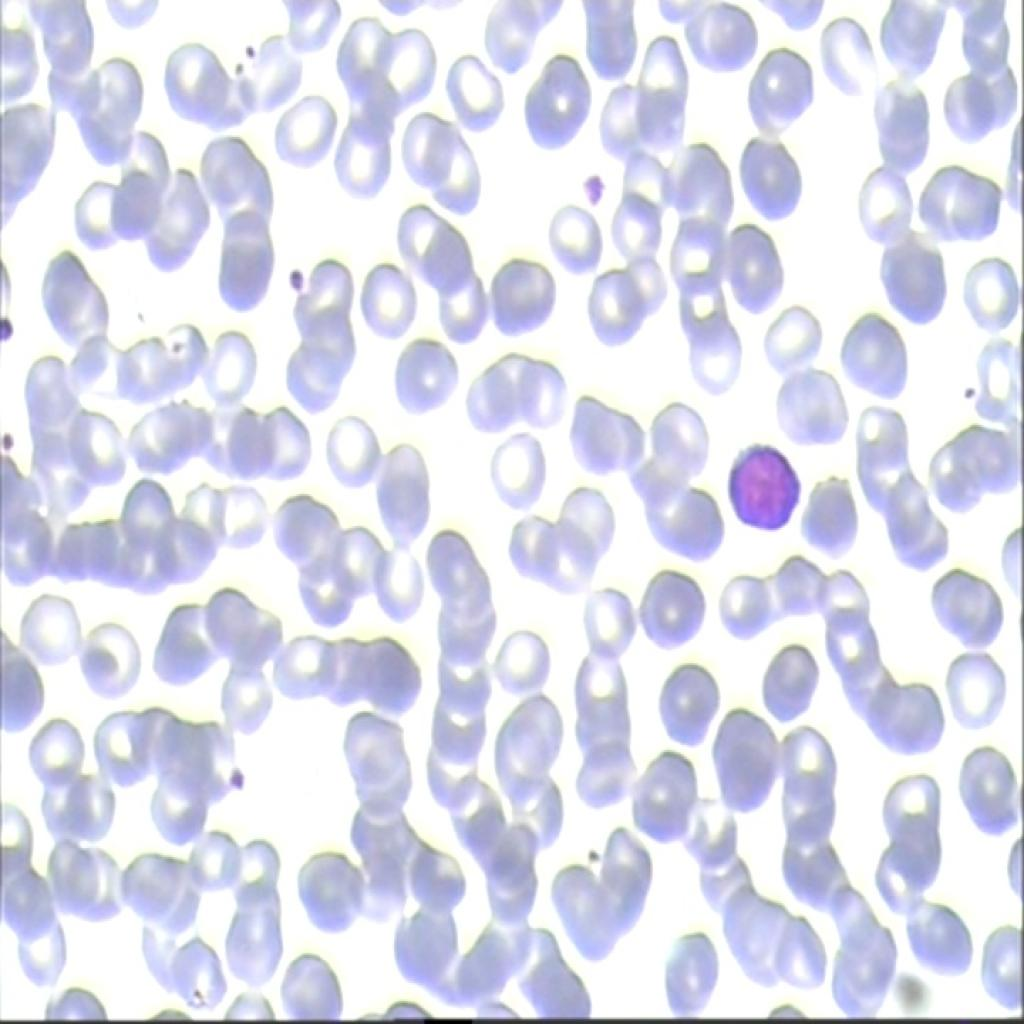Limfosit: (714, 426, 812, 548)
Platelet: (273, 252, 324, 298), (950, 366, 986, 412), (0, 292, 24, 354), (576, 169, 609, 210), (218, 756, 253, 791), (0, 414, 26, 460), (228, 59, 258, 89), (236, 28, 258, 60)
